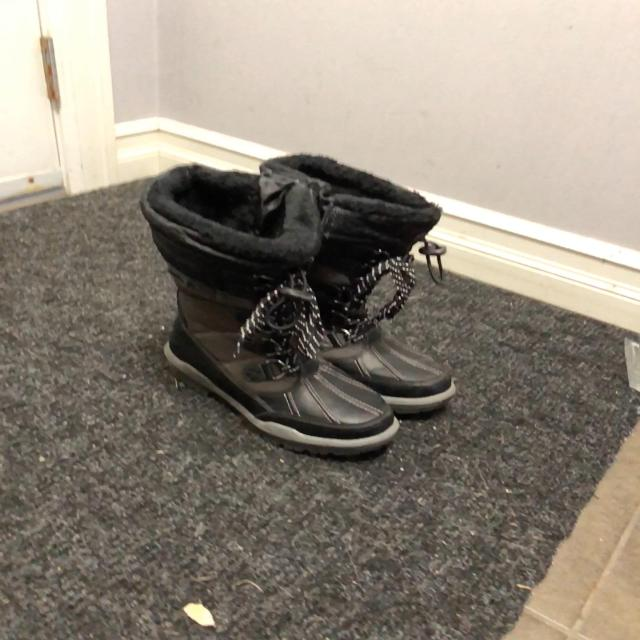shoe: (162, 288, 399, 463), (323, 328, 456, 421)
